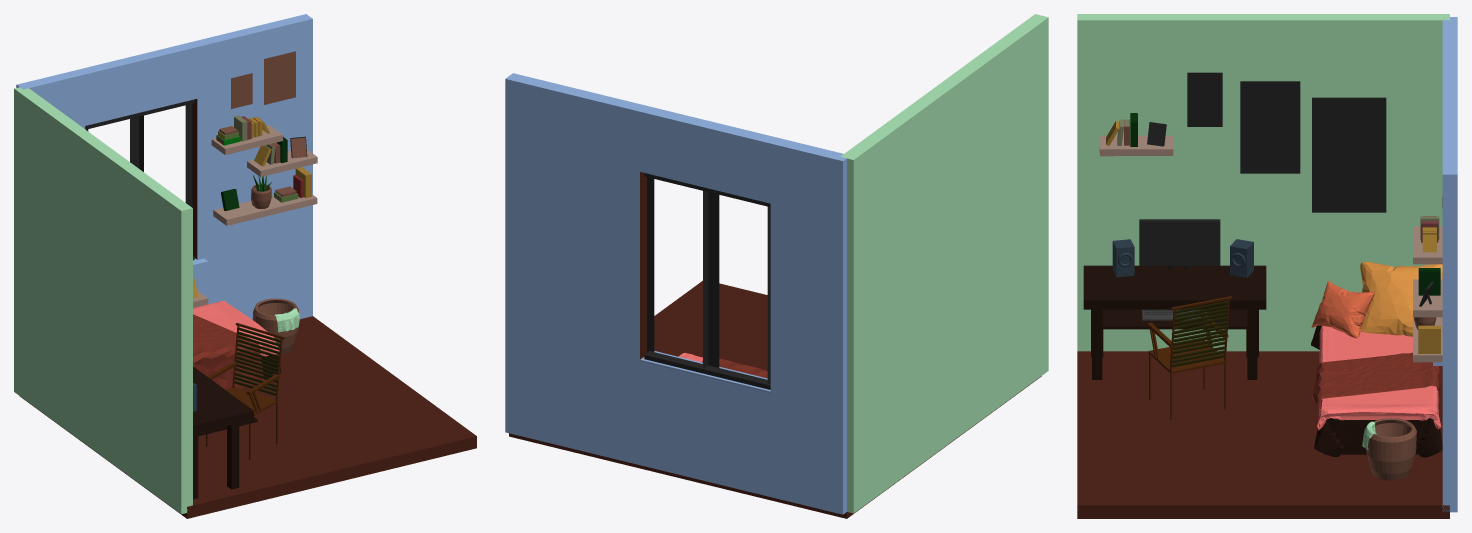
The model's file is room.fbx.
The picture shows the model from 3 angles, left to right: view 1: azimuth 30°, elevation 25°; view 2: azimuth 150°, elevation 25°; view 3: azimuth 270°, elevation 25°; orthographic projection. The views are drawn at different scales.
Parts seen in each view (by area): view 1: Cube.001; view 2: Cube.001; view 3: Cube.001.
Part boxes in pixels (left/top/right/bottom): Cube.001: left=14, top=14, right=476, bottom=518; Cube.001: left=505, top=14, right=1048, bottom=518; Cube.001: left=1077, top=14, right=1457, bottom=518.
Bounding box in the file's own units: 1020 × 1020 × 1020.
